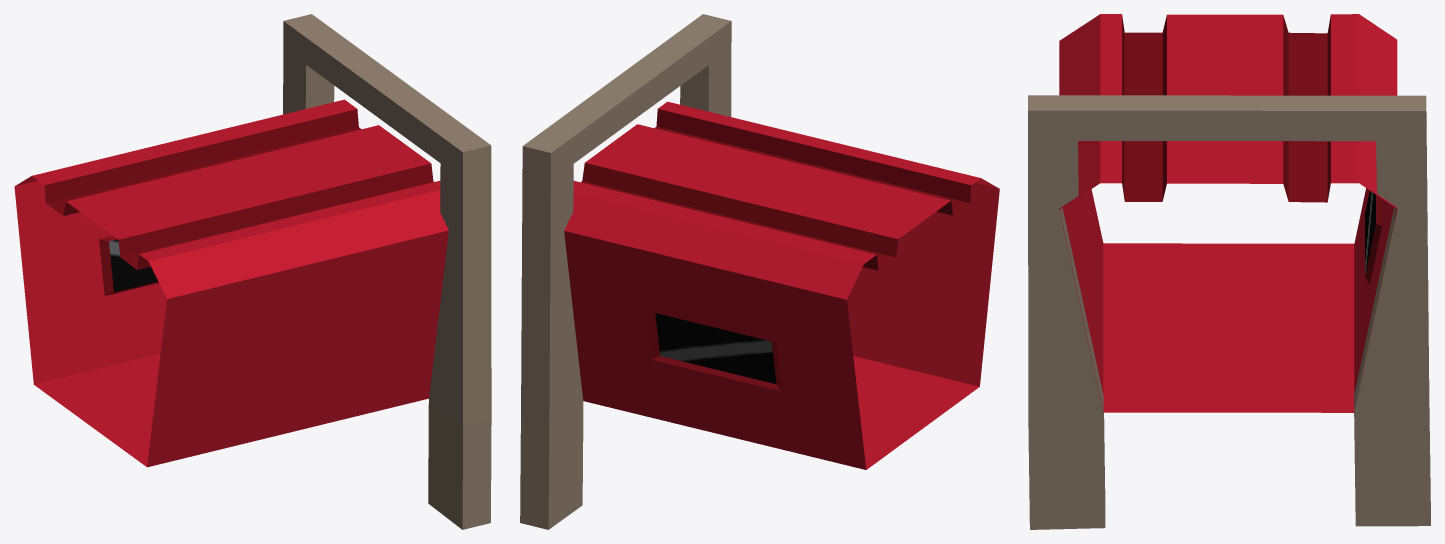
Rendered from house_mid_v2.fbx.
3 renders of one model, left to right at view 1: azimuth 30°, elevation 25°; view 2: azimuth 150°, elevation 25°; view 3: azimuth 270°, elevation 25°, orthographic. The views are drawn at different scales.
Visible parts, largest first — view 1: house_Mid; view 2: house_Mid; view 3: house_Mid.
Part boxes in pixels (left/top/right/bottom): house_Mid: left=14, top=14, right=491, bottom=529; house_Mid: left=520, top=14, right=999, bottom=529; house_Mid: left=1028, top=14, right=1430, bottom=529.
Size of the model in its own units: 941 by 1088 by 947.
